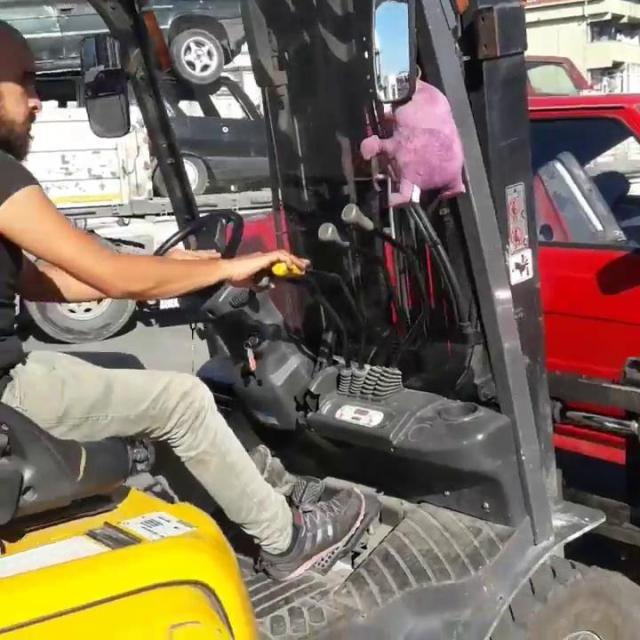forklift: (0, 0, 567, 640)
person: (0, 5, 400, 582)
